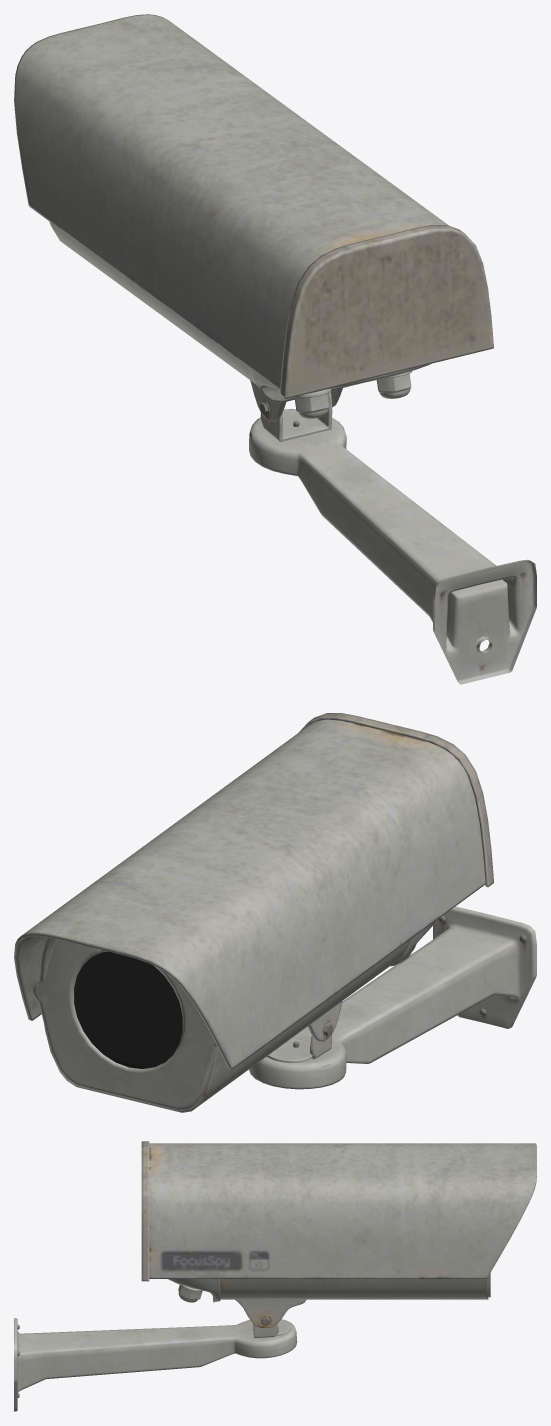
Rendered from security_camera.glb.
3 renders of one model, top to bottom at view 1: azimuth 30°, elevation 25°; view 2: azimuth 150°, elevation 25°; view 3: azimuth 270°, elevation 25°, orthographic. The views are drawn at different scales.
Parts seen in each view (by area): view 1: security_camera_01; view 2: security_camera_01; view 3: security_camera_01.
Part boxes in pixels (x1=…): security_camera_01: x1=14, y1=14, x2=536, y2=684; security_camera_01: x1=14, y1=713, x2=536, y2=1112; security_camera_01: x1=14, y1=1141, x2=536, y2=1411.
Size of the model in its own units: 0.1695 by 0.2861 by 0.5537.
Materials: 2 (2 with a texture image).
